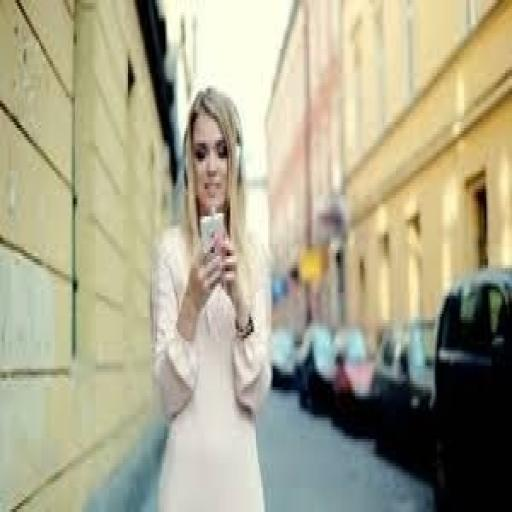listening_to_music: (148, 82, 275, 509)
